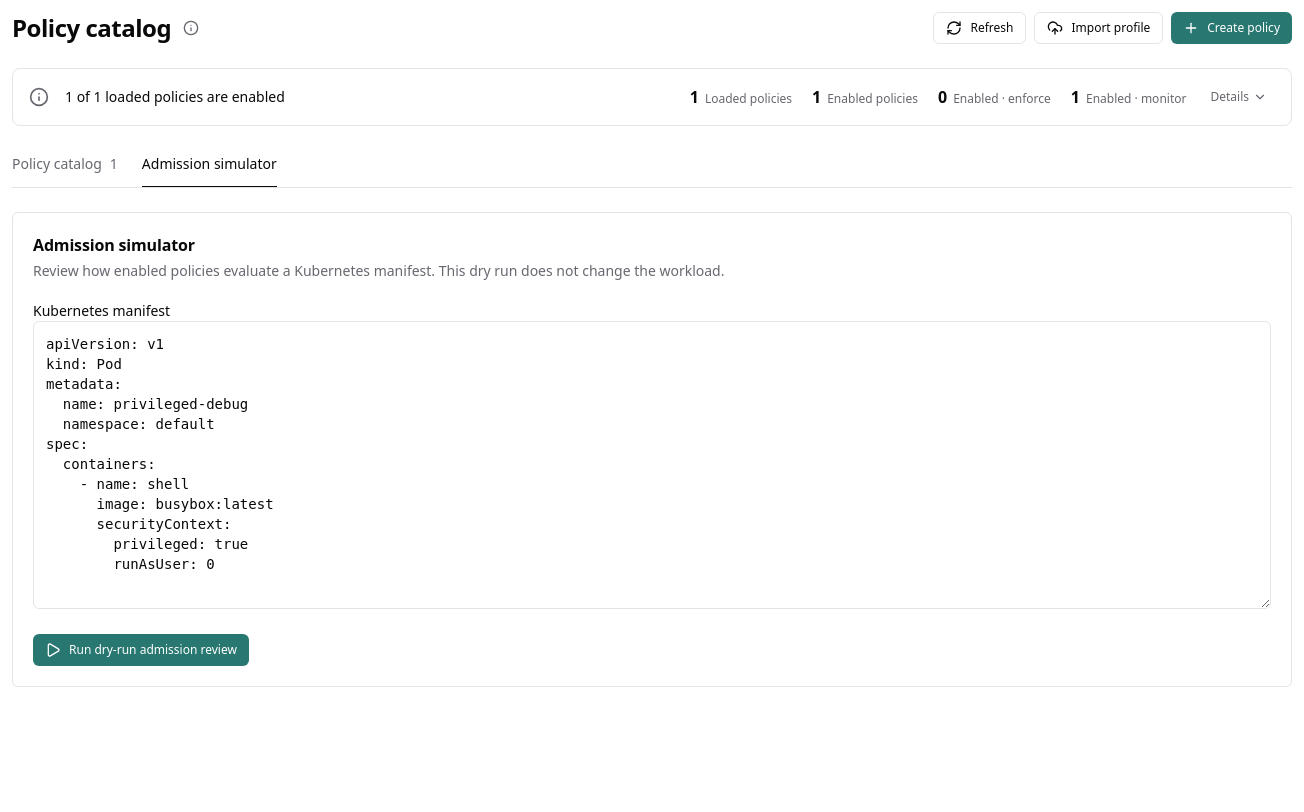
Scenario: preserves the simulator manifest after a failed review
Check: the text box labelled "Kubernetes manifest" is shown, box [33,321,1271,609]
Step 1. Click the button "Run dry-run admission review" → {"x": 141, "y": 650}, box [33,634,249,666]
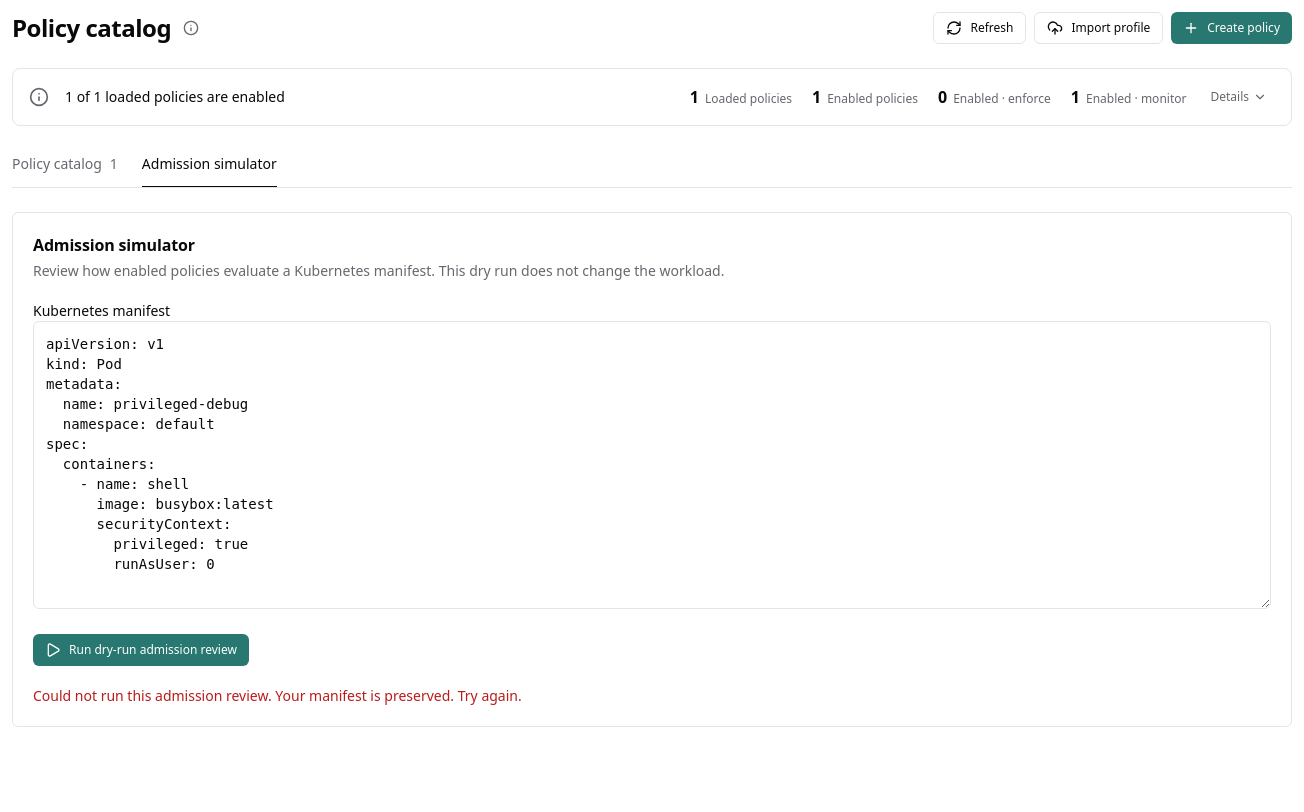
Check: the text "Your manifest is preserved" is shown, box [33,686,522,705]
